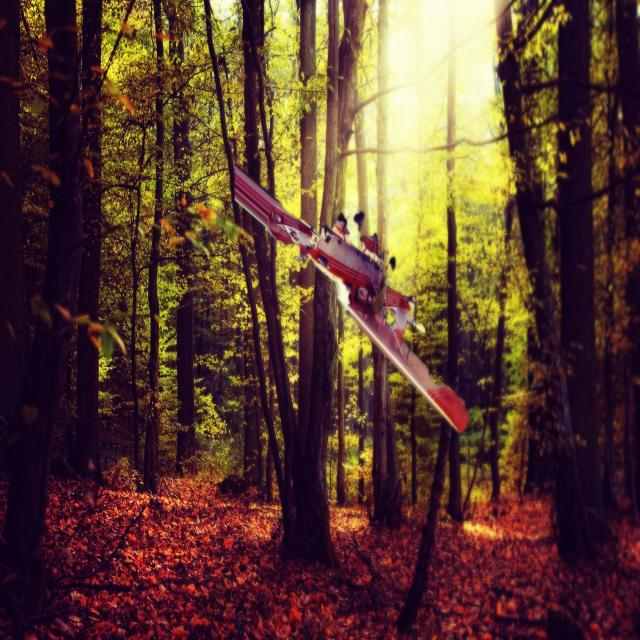airplane: (232, 162, 468, 434)
